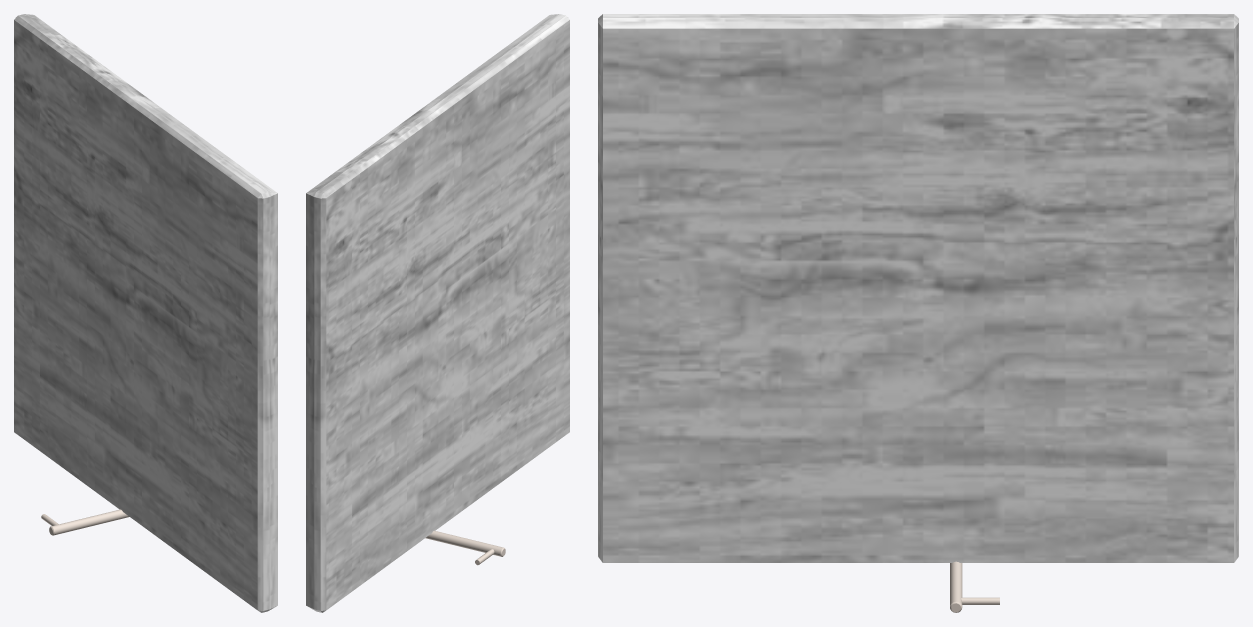
The model's file is Cabinet_7db0dd4d.obj.
3 renders of one model, left to right at view 1: azimuth 30°, elevation 25°; view 2: azimuth 150°, elevation 25°; view 3: azimuth 270°, elevation 25°, orthographic. The views are drawn at different scales.
Parts seen in each view (by area): view 1: Mesh_ea0a0ee6, handle_1_178mm_01_c8c17fbf; view 2: Mesh_ea0a0ee6, handle_1_178mm_01_c8c17fbf; view 3: Mesh_ea0a0ee6, handle_1_178mm_01_c8c17fbf.
Boxes of the visible parts, x1=… form: Mesh_ea0a0ee6: x1=14, y1=14, x2=277, y2=612; handle_1_178mm_01_c8c17fbf: x1=41, y1=509, x2=129, y2=535; Mesh_ea0a0ee6: x1=306, y1=14, x2=569, y2=612; handle_1_178mm_01_c8c17fbf: x1=425, y1=530, x2=505, y2=565; Mesh_ea0a0ee6: x1=598, y1=14, x2=1238, y2=562; handle_1_178mm_01_c8c17fbf: x1=950, y1=561, x2=999, y2=612.
Bounding box in the file's own units: 0.178 × 0.4656 × 0.4929.
